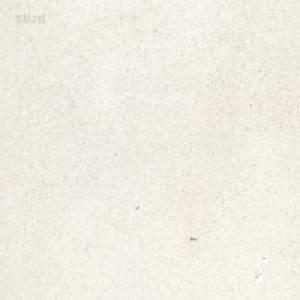Nail: (189, 235, 197, 240)
